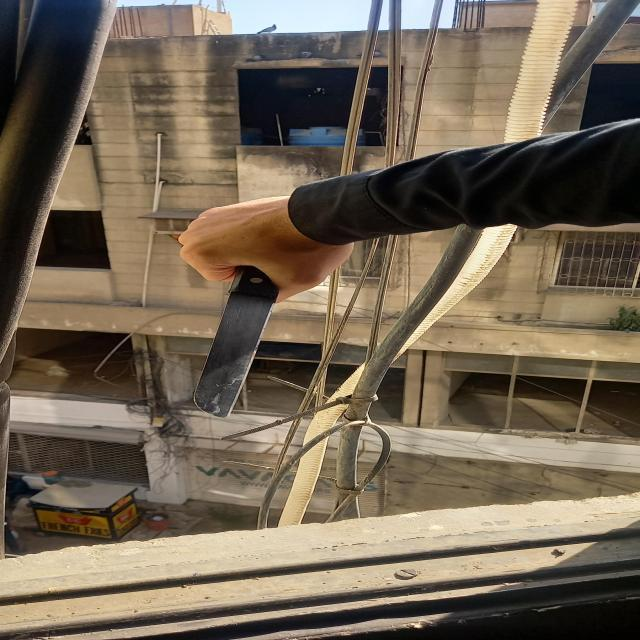faca: (188, 266, 280, 418)
